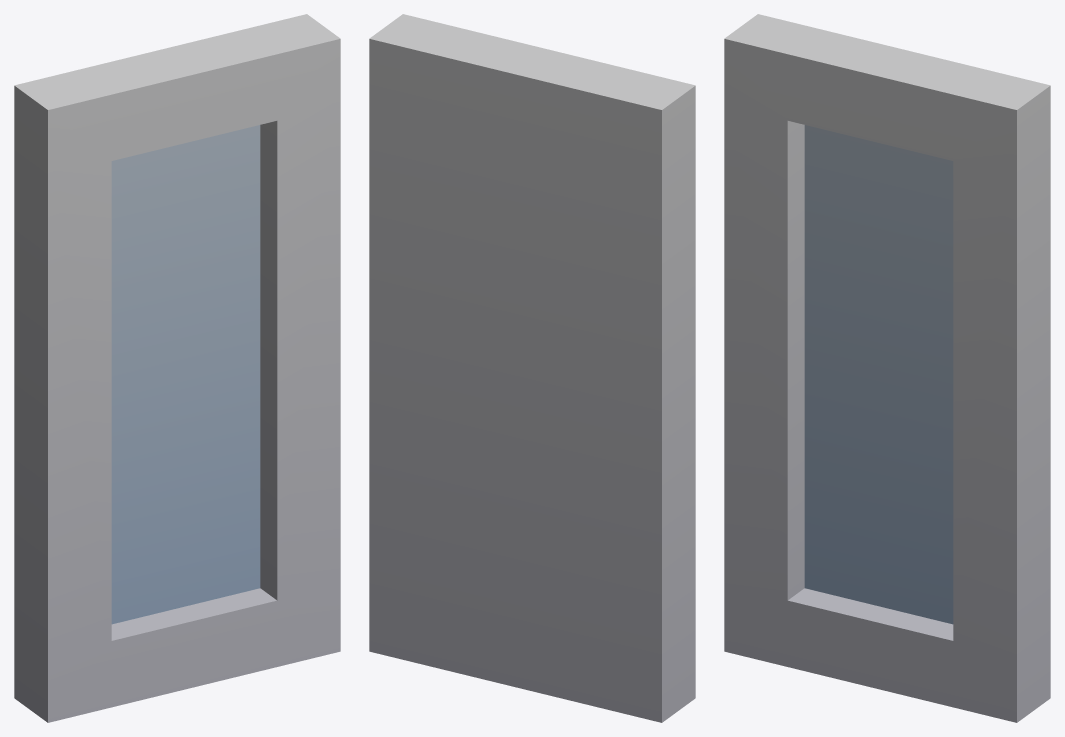
Rendered from door-white-glass.glb.
The picture shows the model from 3 angles, left to right: view 1: azimuth 30°, elevation 25°; view 2: azimuth 150°, elevation 25°; view 3: azimuth 330°, elevation 25°; orthographic projection.
Visible parts, largest first — view 1: door-white-glass; view 2: door-white-glass; view 3: door-white-glass.
Part boxes in pixels (x1,y1,x2,y2): door-white-glass: [14, 14, 340, 722]; door-white-glass: [369, 14, 695, 722]; door-white-glass: [724, 14, 1050, 722].
Bounding box in the file's own units: 0.25 × 0.5 × 0.05.
